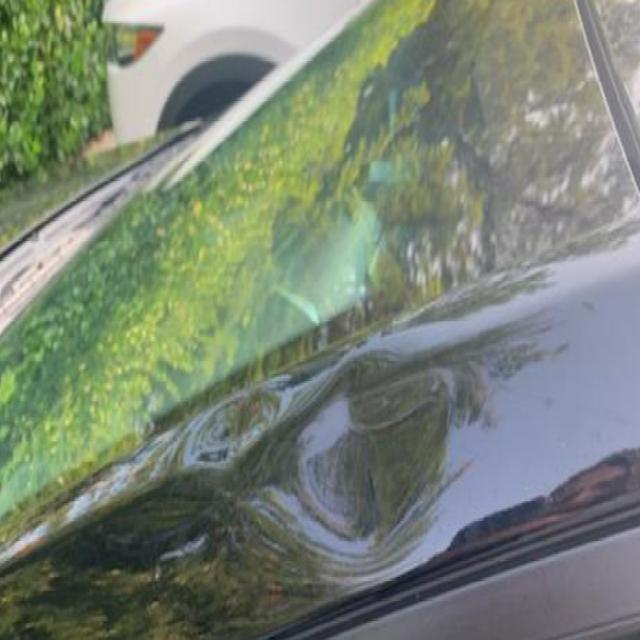dents: (267, 373, 505, 558), (188, 388, 274, 480)
